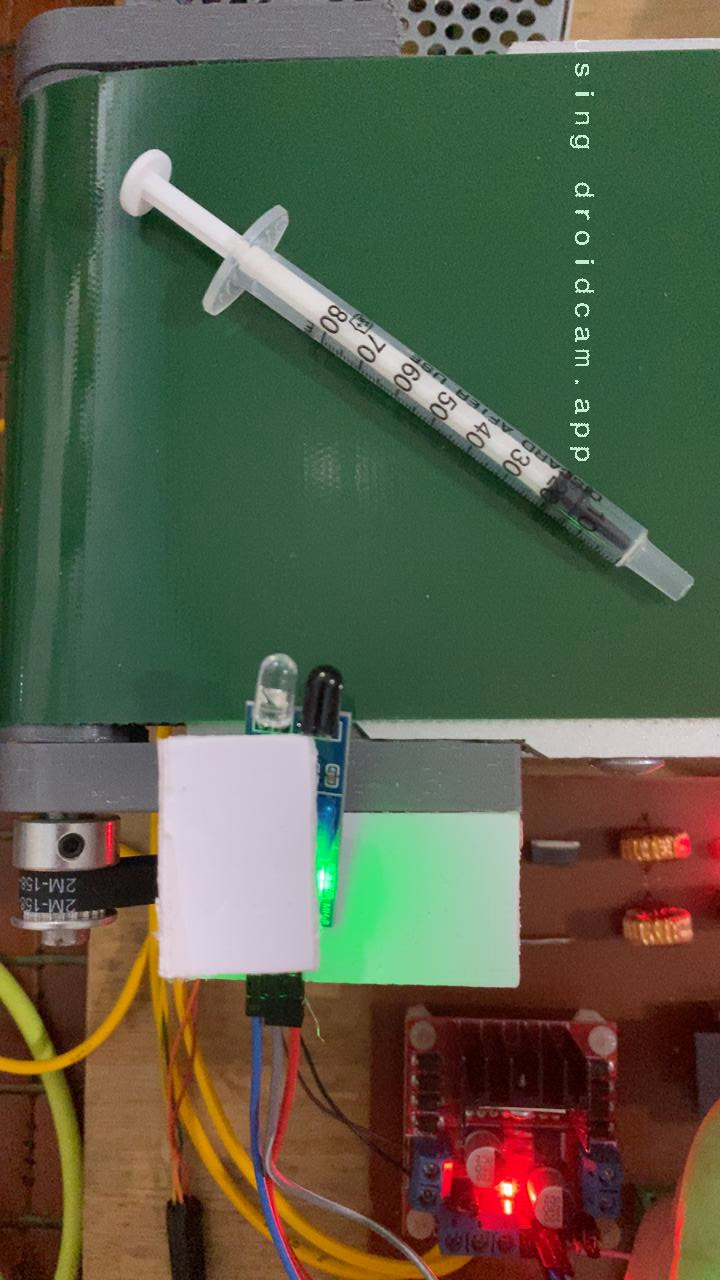syringe: (111, 142, 699, 605)
